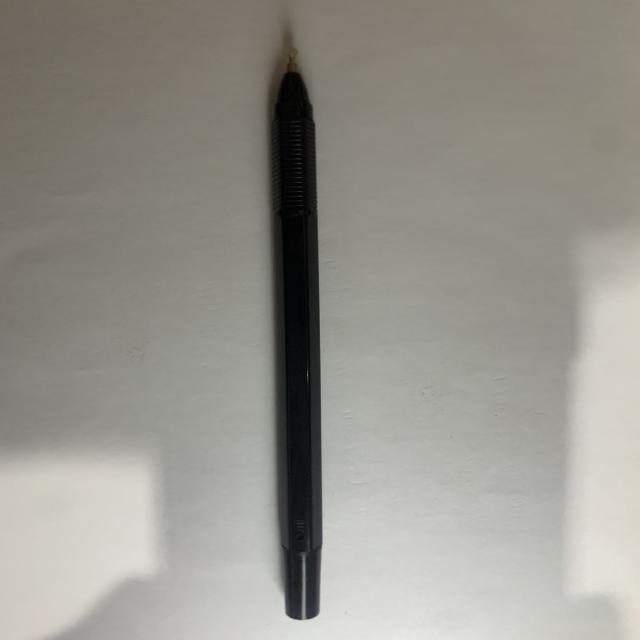Pulpen: (252, 42, 365, 627)
